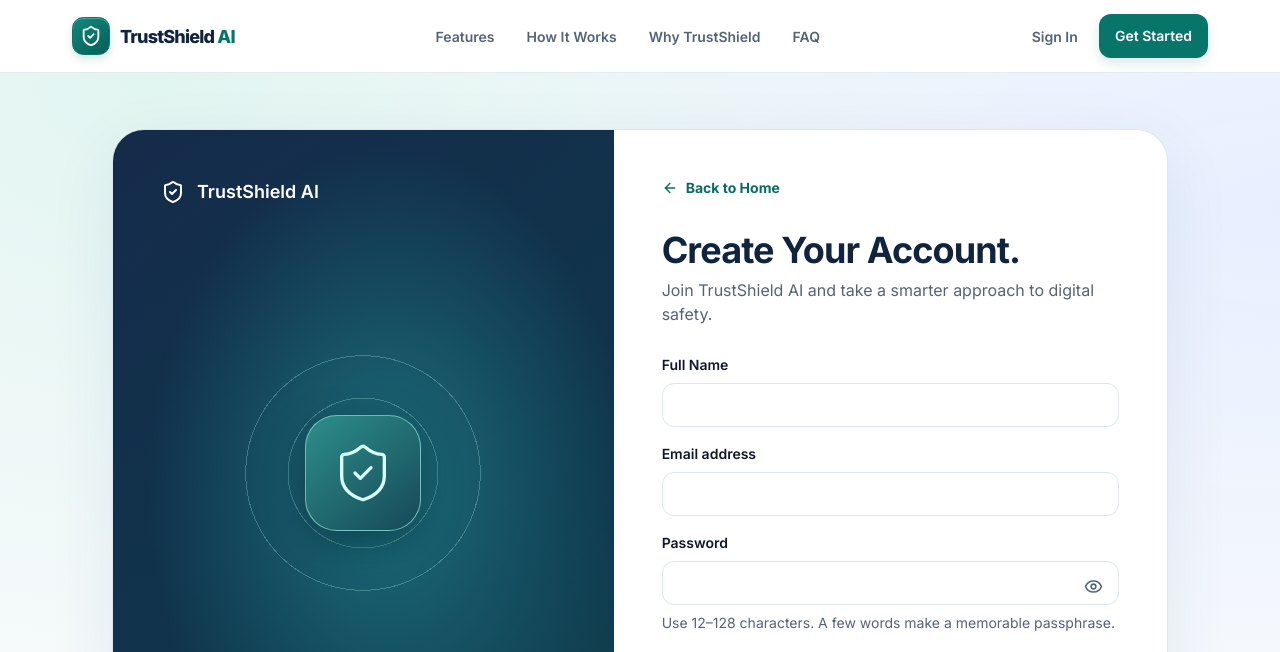
TrustShield authentication UI › disables signup during submission and updates auth state after signup
The image size is (1280, 652).
Later steps or results of the test are not shown.
Step 1. Type "Alex Rivera" into the field labelled "Full Name" → (890, 405), box top-left (662, 383), bottom-right (1119, 427)
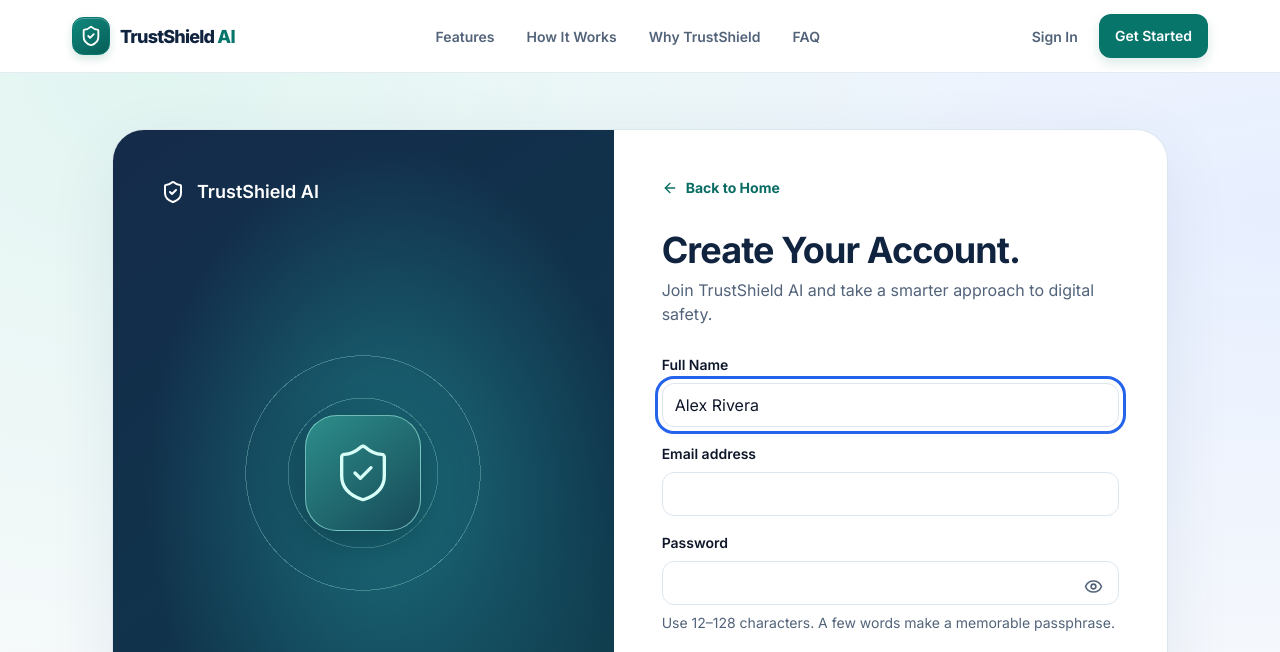
Step 2. Type "alex@example.com" into the field labelled "Email address" → (890, 494), box top-left (662, 472), bottom-right (1119, 516)
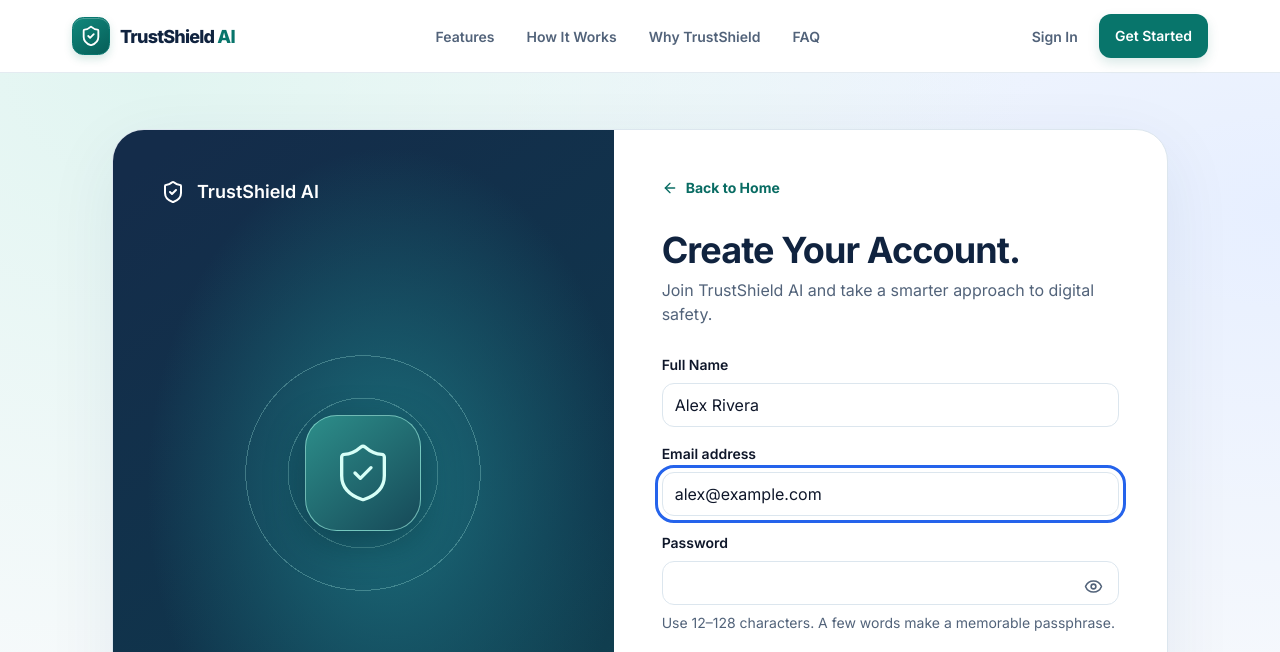
Step 3. Type "correct horse battery staple" into the password field labelled "Password" → (890, 583), box top-left (662, 561), bottom-right (1119, 605)
(page scrolled)
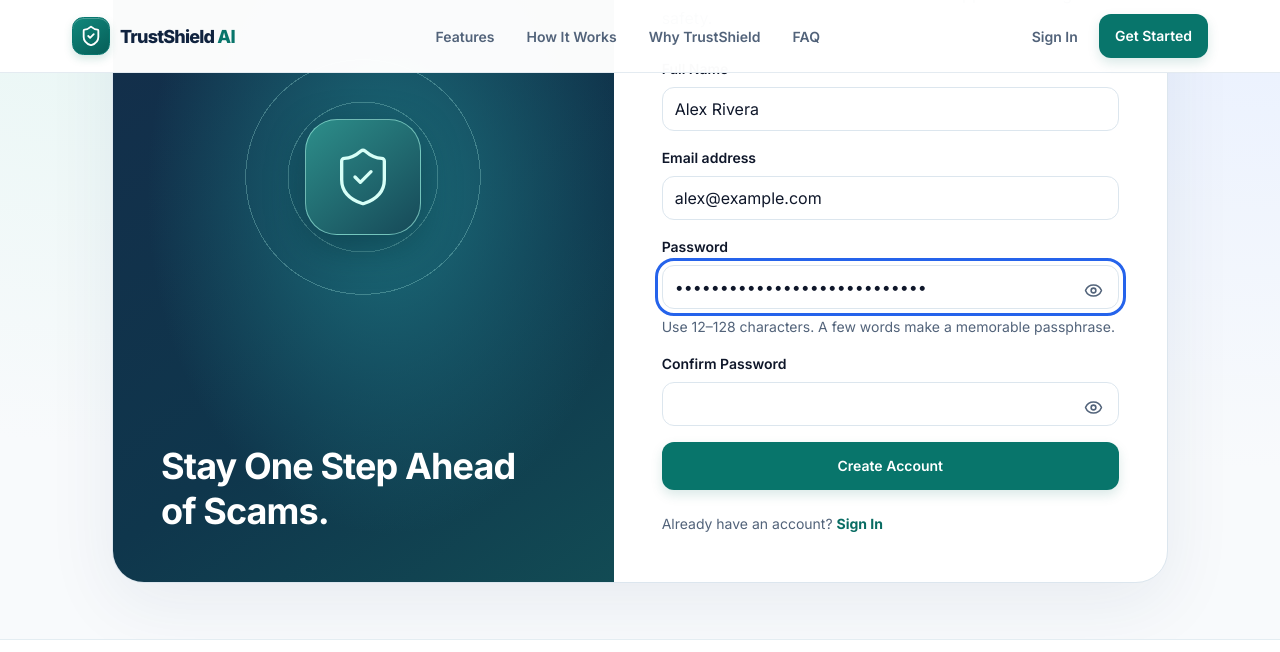
Step 4. Type "correct horse battery staple" into the password field labelled "Confirm Password" → (890, 404), box top-left (662, 382), bottom-right (1119, 426)
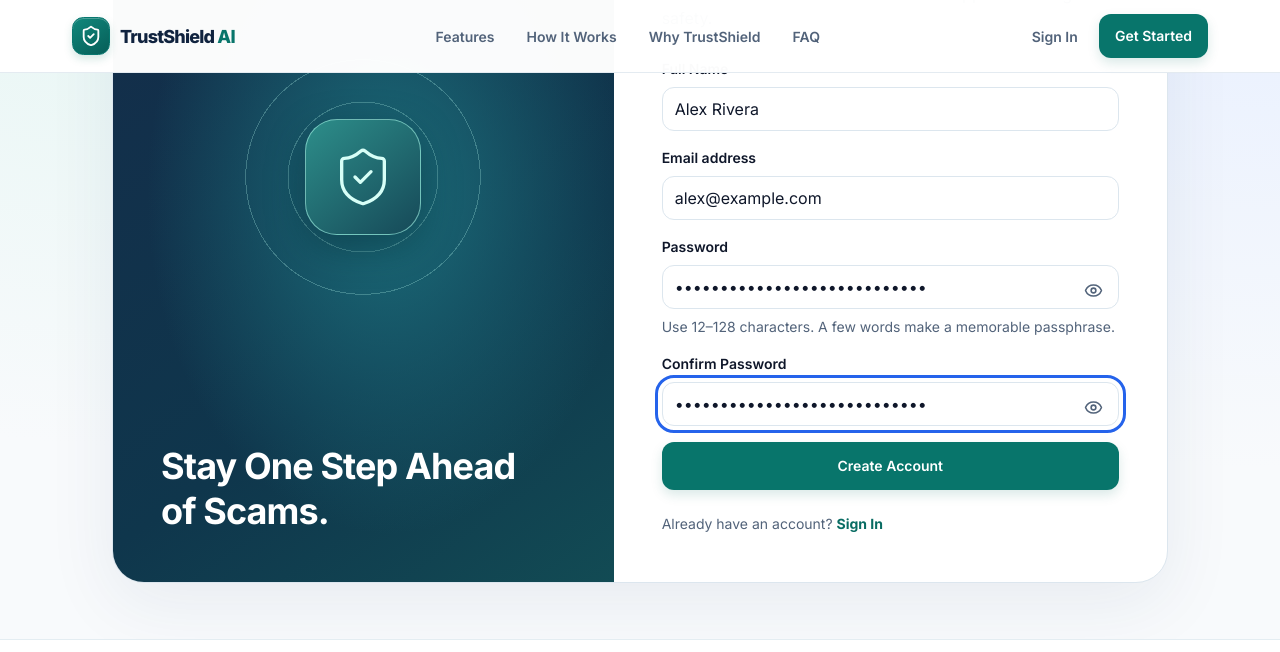
Step 5. Click the button "Create Account" → (890, 466), box top-left (662, 442), bottom-right (1119, 490)
(page scrolled)
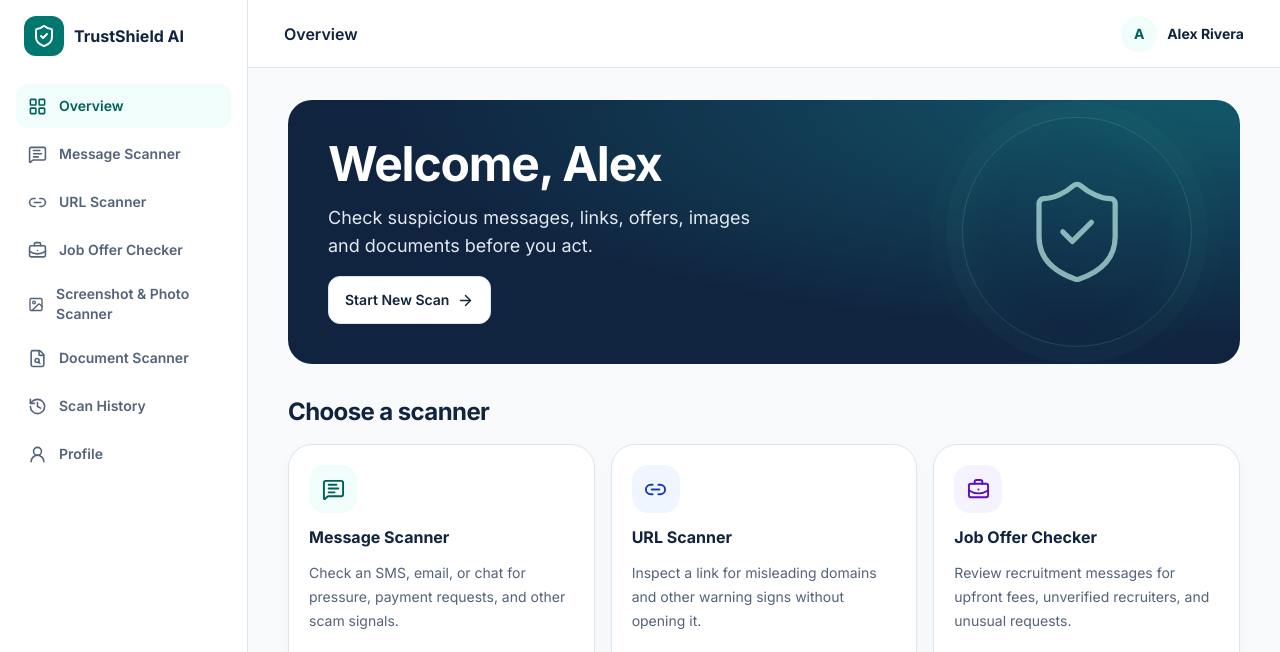
Expected: the heading "Welcome, Alex" is shown, top-left (328, 140), bottom-right (662, 188)
